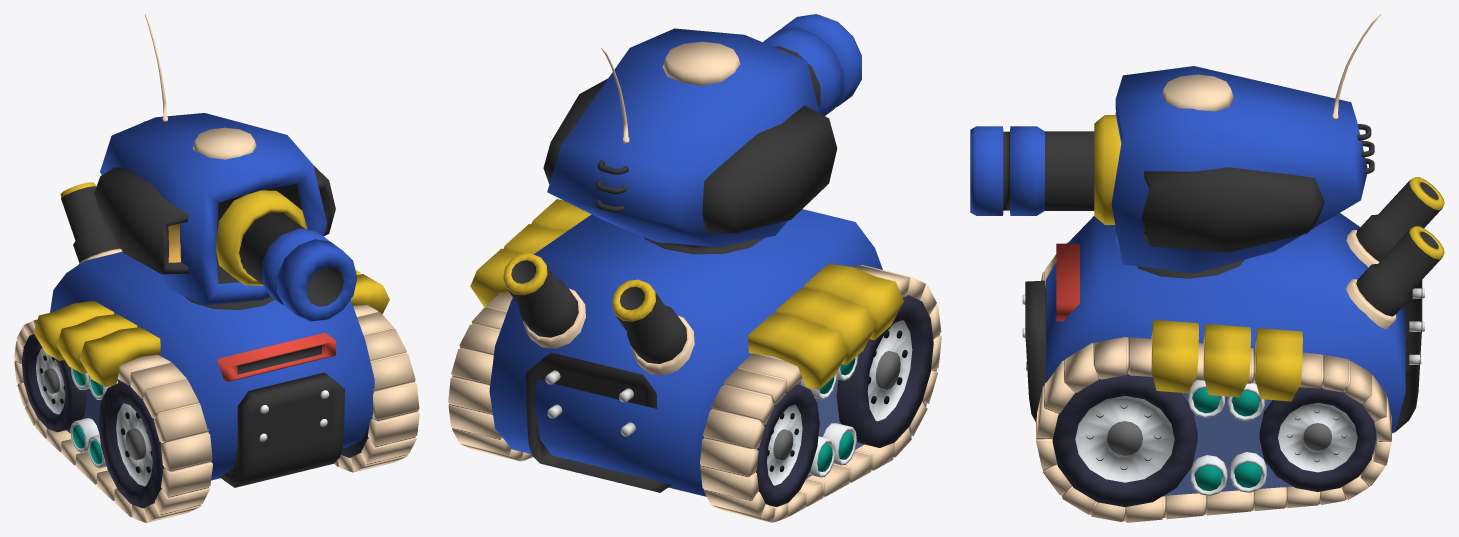
The model's file is Tank9.fbx.
3 views of the same model, side by side, from view 1: azimuth 30°, elevation 25°; view 2: azimuth 150°, elevation 25°; view 3: azimuth 270°, elevation 25° (orthographic). The views are drawn at different scales.
Parts seen in each view (by area): view 1: Tank9, Tank9.Turret, Tank9.Wheel2, Tank9.Wheel4; view 2: Tank9, Tank9.Turret, Tank9.Wheel2, Tank9.Wheel4; view 3: Tank9, Tank9.Turret, Tank9.Wheel1, Tank9.Wheel3.
Boxes of the visible parts, <box> form: Tank9: <box>14,182,419,522</box>; Tank9.Turret: <box>94,14,357,321</box>; Tank9.Wheel2: <box>98,382,164,508</box>; Tank9.Wheel4: <box>22,334,86,432</box>; Tank9: <box>448,199,941,522</box>; Tank9.Turret: <box>543,14,861,254</box>; Tank9.Wheel2: <box>836,295,933,447</box>; Tank9.Wheel4: <box>756,384,819,506</box>; Tank9: <box>1022,177,1444,522</box>; Tank9.Turret: <box>970,14,1381,278</box>; Tank9.Wheel1: <box>1052,374,1197,507</box>; Tank9.Wheel3: <box>1259,387,1375,491</box>.
Bounding box in the file's own units: 1.6 × 2.06 × 2.
